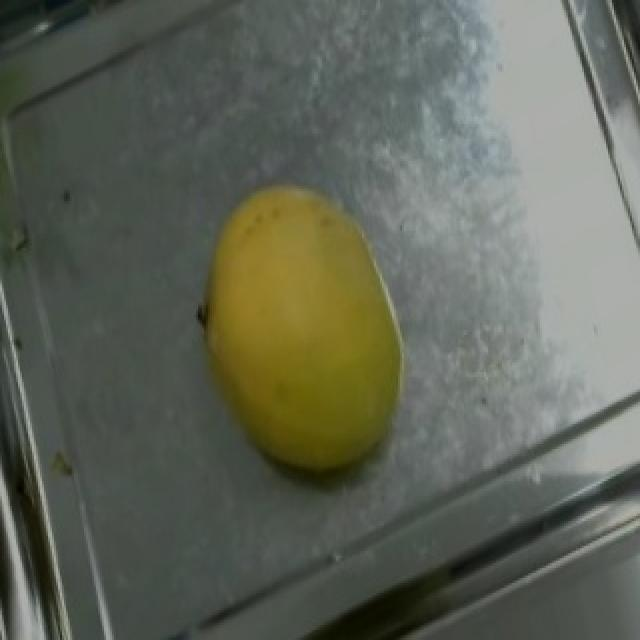fruit: (158, 144, 480, 521)
